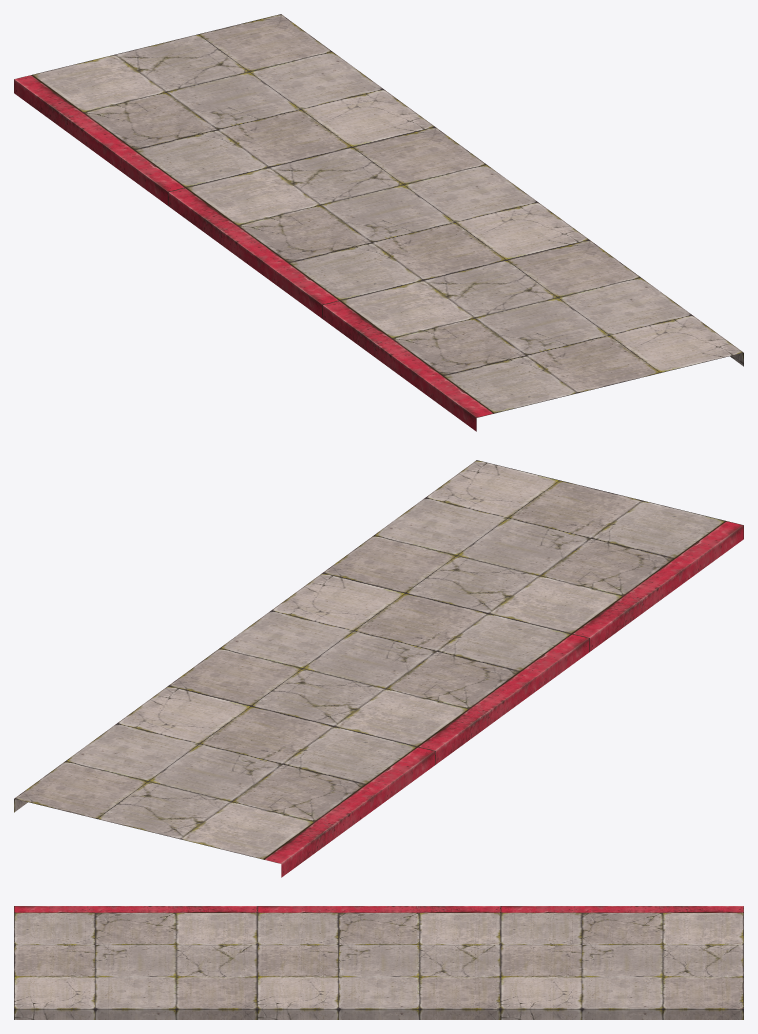
File: sidewalk02_9m.fbx
3 views of the same model, one above another, from view 1: azimuth 30°, elevation 25°; view 2: azimuth 150°, elevation 25°; view 3: azimuth 270°, elevation 25° (orthographic). The views are drawn at different scales.
Visible parts, largest first — view 1: sidewalk02_9m; view 2: sidewalk02_9m; view 3: sidewalk02_9m.
Part boxes in pixels (x1,y1,x2,y2): sidewalk02_9m: [14, 14, 743, 431]; sidewalk02_9m: [14, 460, 743, 877]; sidewalk02_9m: [14, 906, 743, 1019].
Bounding box in the file's own units: 300 × 15 × 900.
